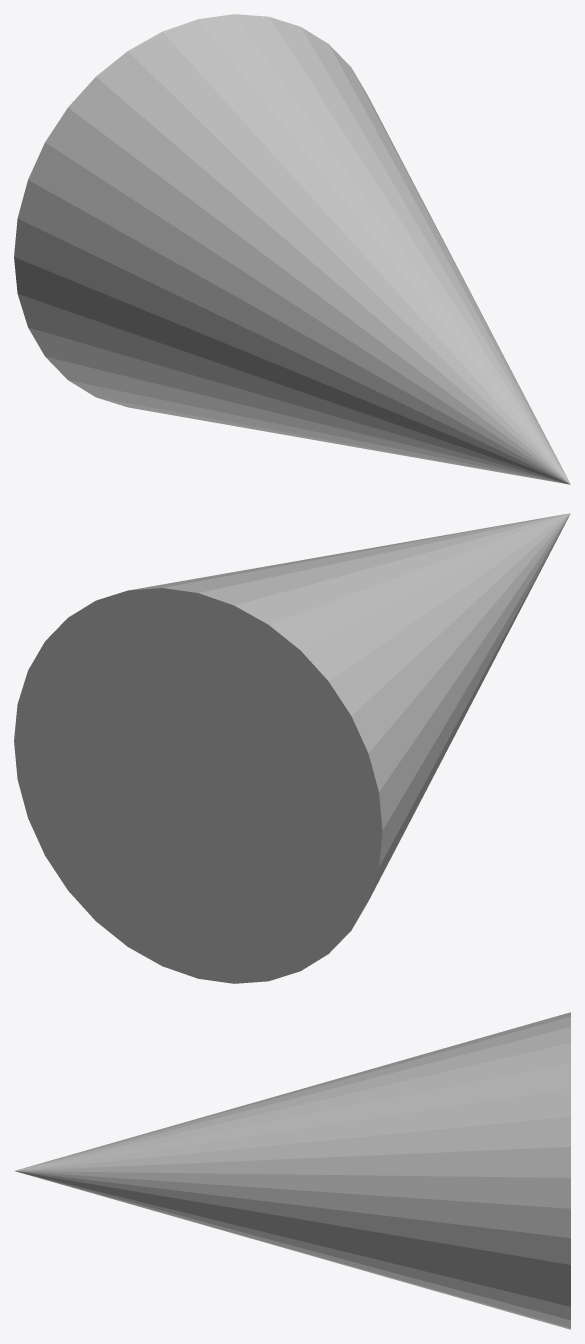
File: attack_effect.obj
3 views of the same model, one above another, from view 1: azimuth 30°, elevation 25°; view 2: azimuth 150°, elevation 25°; view 3: azimuth 270°, elevation 25° (orthographic). The views are drawn at different scales.
Parts seen in each view (by area): view 1: 円錐; view 2: 円錐; view 3: 円錐.
Part boxes in pixels (x1=…): 円錐: x1=14, y1=14, x2=570, y2=484; 円錐: x1=14, y1=513, x2=570, y2=983; 円錐: x1=15, y1=1012, x2=570, y2=1329.
Size of the model in its own units: 0.3243 by 0.3243 by 0.568.
Materials: 1 (1 with a texture image).
